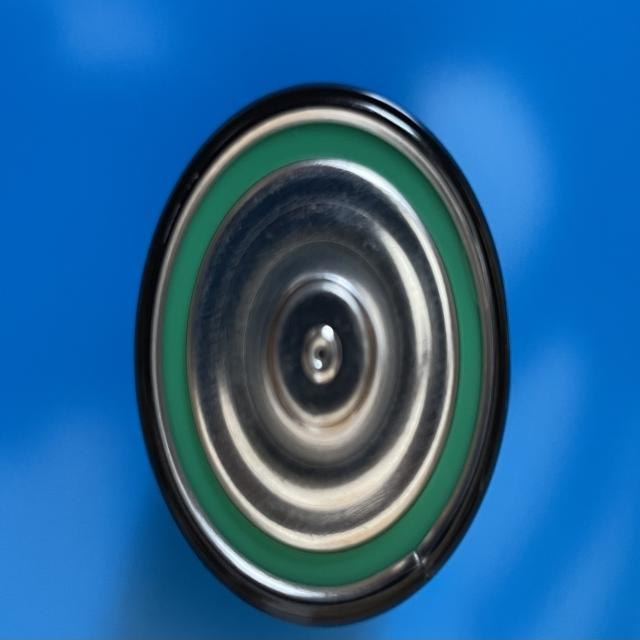hazardous waste: (130, 79, 513, 628)
